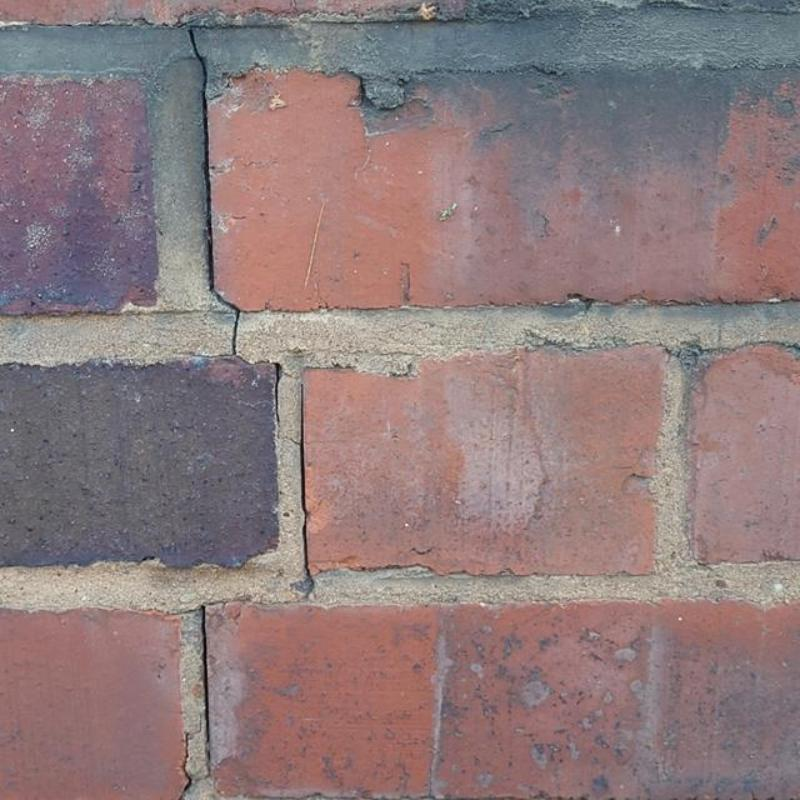crack: (188, 29, 242, 356), (170, 592, 253, 777), (289, 384, 315, 599), (255, 361, 283, 424), (177, 732, 193, 800), (280, 436, 301, 446)
